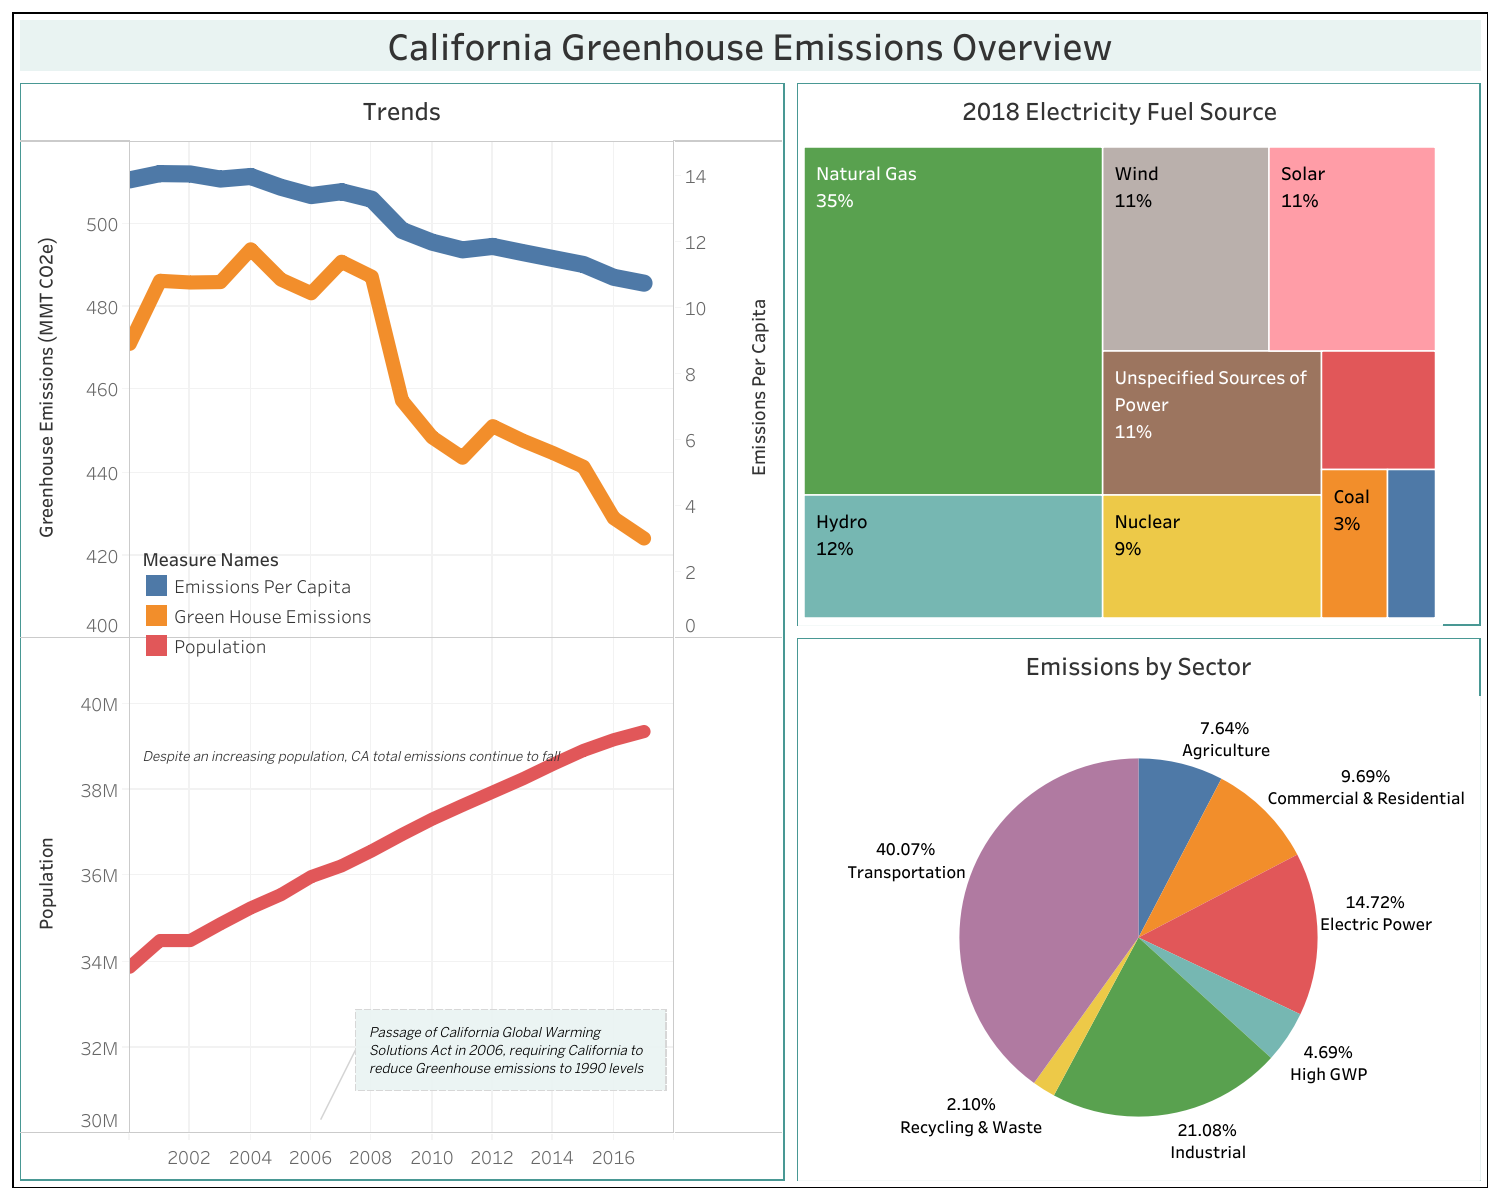

What the dashboard file says about the page in this screenshot:
{"tool":"tableau","page":{"name":"Dashboard 1","canvas":[1000,800],"ordinal":0},"visuals":[{"type":"title","box":[9,9,982,58]},{"type":"worksheet","title":"Sheet 1","mark":"Automatic","rows":["Green House Emissions","Calculation_888898015659741184","Population"],"cols":["Year"],"box":[9,67,517.9,724]},{"type":"worksheet","title":"2018 Electricity Fuel Source","mark":"Automatic","box":[526.9,67,464.1,362]},{"type":"legend","title":"Sheet 1","param":"[federated.1wcvpfw1t2ekrh1gcp2lj15jbbwt].[:Measure Names]","box":[94,361,229,101]},{"type":"worksheet","title":"Pie","mark":"Pie","box":[526.9,429,464.1,362]}]}

Visuals, with their boxes in screenshot pixels (x1, y1, x2, y2), scaled from the page's 1000x800 canvas onto the 1499x1199 screenshot:
title: l=13, t=13, r=1486, b=100
"Sheet 1" worksheet: l=13, t=100, r=790, b=1186
"2018 Electricity Fuel Source" worksheet: l=790, t=100, r=1486, b=643
"Sheet 1" legend: l=141, t=541, r=484, b=692
"Pie" worksheet (Pie marks): l=790, t=643, r=1486, b=1186
